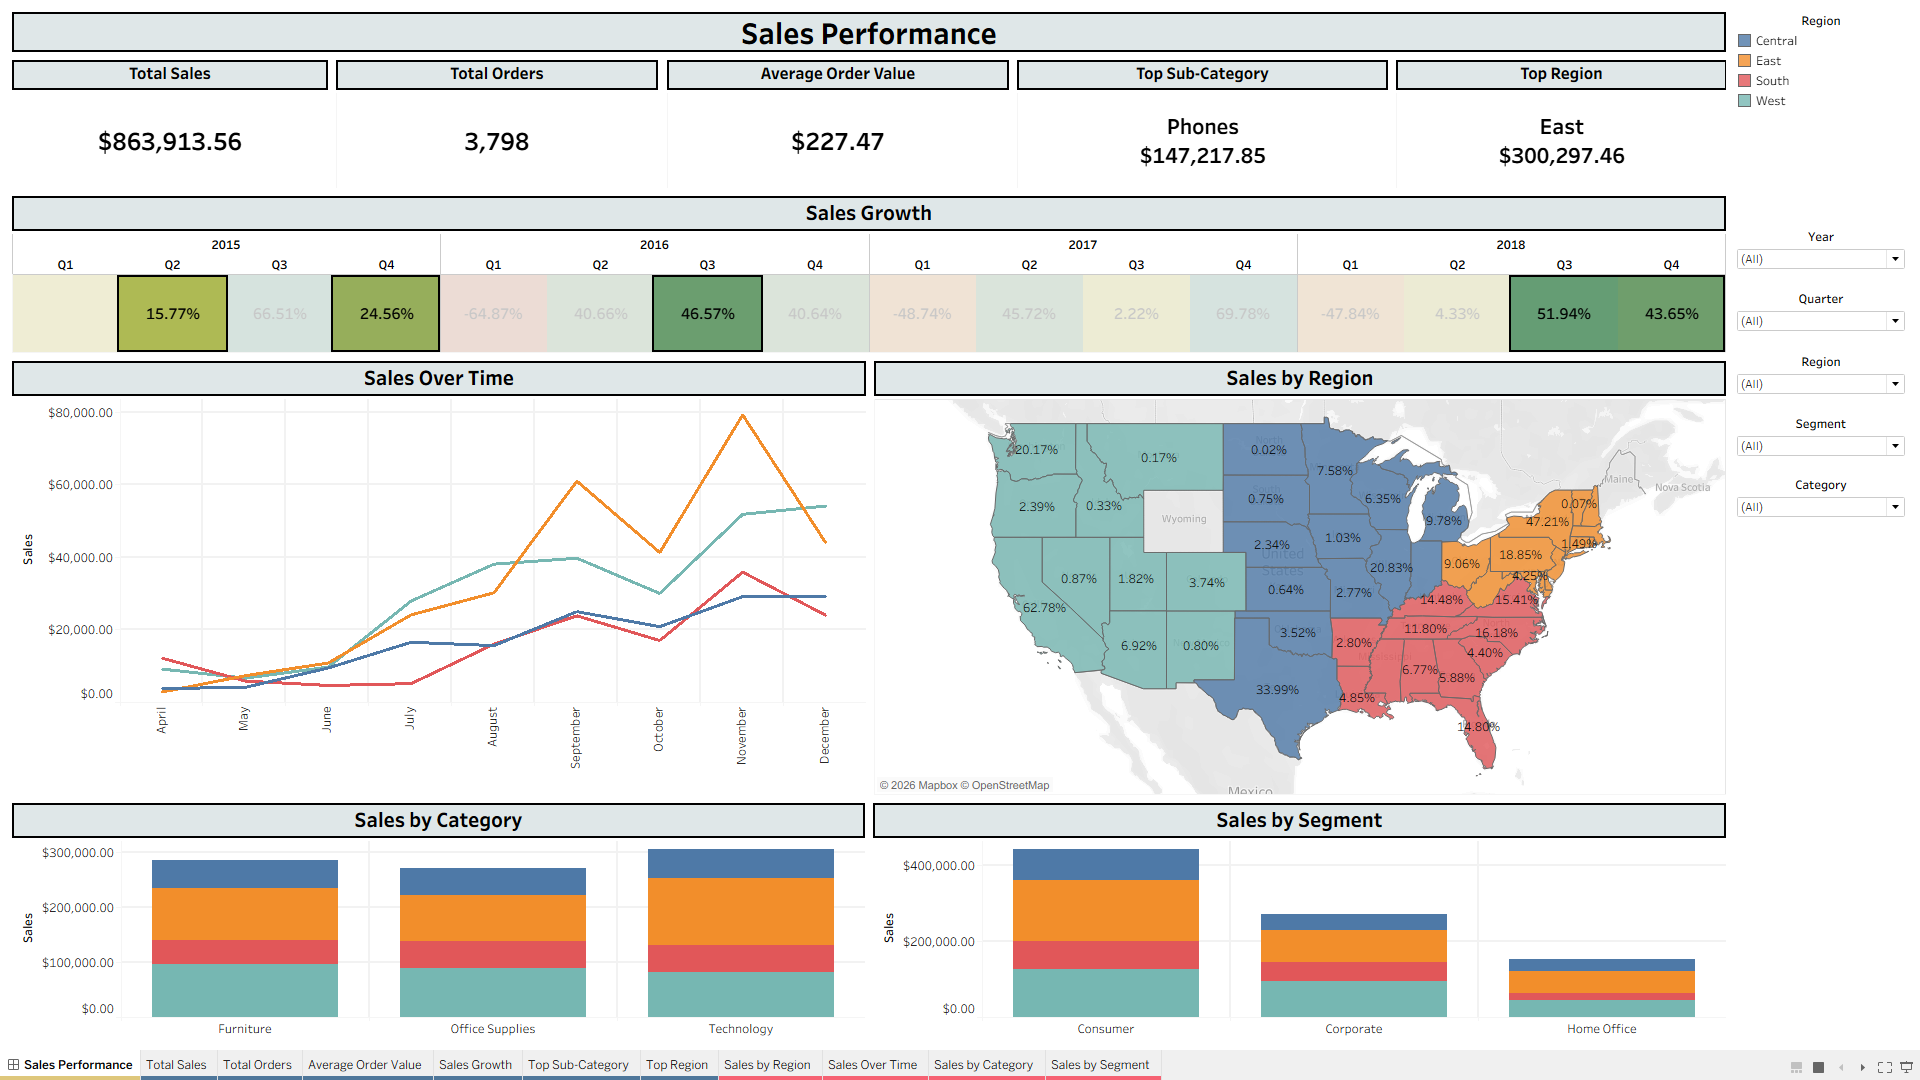

The dashboard page shown, as its layout file describes it:
{"tool":"tableau","page":{"name":"Sales Performance","canvas":[1000,1000],"units":"permille","ordinal":0},"visuals":[{"type":"title","box":[4.3,9.8,896.9,58.5]},{"type":"legend","title":"Sales by Region","param":"[federated.05i0j671lpl5bh1a86nyh1atq0u8].[none:Region:nk]","box":[901.1,9.8,94.6,205.2]},{"type":"worksheet","title":"Total Sales","mark":"Automatic","box":[4.3,68.3,169,127.6]},{"type":"worksheet","title":"Total Orders","mark":"Automatic","box":[173.2,68.3,172,127.6]},{"type":"worksheet","title":"Average Order Value","mark":"Automatic","box":[345.2,68.3,182.4,127.6]},{"type":"worksheet","title":"Top Sub-Category","mark":"Automatic","box":[527.6,68.3,197.2,127.6]},{"type":"worksheet","title":"Top Region","mark":"Automatic","box":[724.8,68.3,176.3,127.6]},{"type":"worksheet","title":"Sales Growth","mark":"Square","cols":["Order Date","Order Date"],"box":[4.3,195.9,896.9,154.1]},{"type":"filter","title":"Sales by Region","param":"[federated.05i0j671lpl5bh1a86nyh1atq0u8].[yr:Order Date:ok]","box":[901.1,214.9,94.6,59]},{"type":"filter","title":"Sales by Region","param":"[federated.05i0j671lpl5bh1a86nyh1atq0u8].[qr:Order Date:ok]","box":[901.1,273.9,94.6,59]},{"type":"filter","title":"Sales by Region","param":"[federated.05i0j671lpl5bh1a86nyh1atq0u8].[none:Region:nk]","box":[901.1,332.9,94.6,75.6]},{"type":"worksheet","title":"Sales Over Time","mark":"Automatic","rows":["Sales"],"cols":["Order Date"],"box":[4.3,350,448.8,413.3]},{"type":"worksheet","title":"Sales by Region","mark":"Multipolygon","box":[453.1,350,448,413.3]},{"type":"filter","title":"Sales by Region","param":"[federated.05i0j671lpl5bh1a86nyh1atq0u8].[none:Segment:nk]","box":[901.1,408.5,94.6,74.4]},{"type":"filter","title":"Sales by Region","param":"[federated.05i0j671lpl5bh1a86nyh1atq0u8].[none:Category:nk]","box":[901.1,482.9,94.6,76.8]},{"type":"blank","box":[901.1,559.8,94.6,430.5]},{"type":"worksheet","title":"Sales by Category","mark":"Automatic","rows":["Sales"],"cols":["Category"],"box":[4.3,763.3,448.3,227]},{"type":"worksheet","title":"Sales by Segment","mark":"Automatic","rows":["Sales"],"cols":["Segment"],"box":[452.6,763.3,448.5,227]}]}

Visuals, with their boxes on the dashboard's canvas, which has no fixed pixel size, in thousandths of its width and height (x1, y1, x2, y2). These are canvas units, not pixel positions in the 1920x1080 screenshot, which may show the page scaled, cropped or inside an application window:
title: (left=4, top=10, right=901, bottom=68)
"Sales by Region" legend: (left=901, top=10, right=996, bottom=215)
"Total Sales" worksheet: (left=4, top=68, right=173, bottom=196)
"Total Orders" worksheet: (left=173, top=68, right=345, bottom=196)
"Average Order Value" worksheet: (left=345, top=68, right=528, bottom=196)
"Top Sub-Category" worksheet: (left=528, top=68, right=725, bottom=196)
"Top Region" worksheet: (left=725, top=68, right=901, bottom=196)
"Sales Growth" worksheet (Square marks): (left=4, top=196, right=901, bottom=350)
"Sales by Region" filter: (left=901, top=215, right=996, bottom=274)
"Sales by Region" filter: (left=901, top=274, right=996, bottom=333)
"Sales by Region" filter: (left=901, top=333, right=996, bottom=408)
"Sales Over Time" worksheet: (left=4, top=350, right=453, bottom=763)
"Sales by Region" worksheet (Multipolygon marks): (left=453, top=350, right=901, bottom=763)
"Sales by Region" filter: (left=901, top=408, right=996, bottom=483)
"Sales by Region" filter: (left=901, top=483, right=996, bottom=560)
blank: (left=901, top=560, right=996, bottom=990)
"Sales by Category" worksheet: (left=4, top=763, right=453, bottom=990)
"Sales by Segment" worksheet: (left=453, top=763, right=901, bottom=990)
